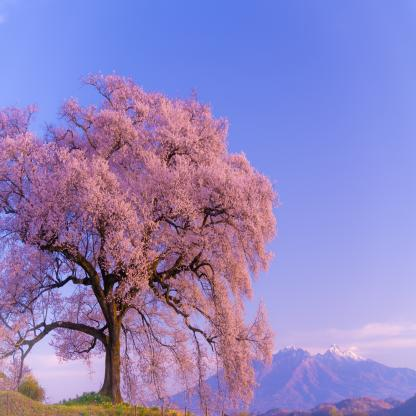EdohiganSakura: (0, 67, 283, 416)
